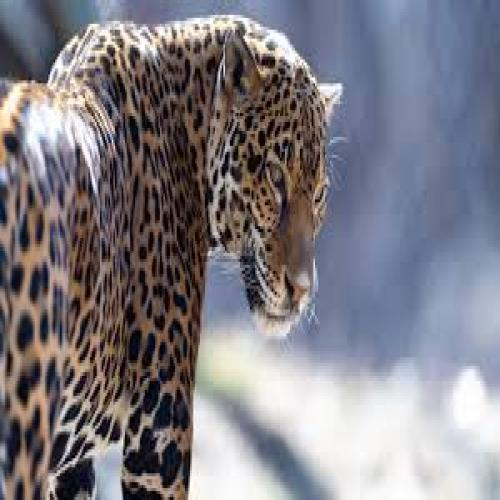jaguar_not-endangered: (0, 16, 326, 500)
